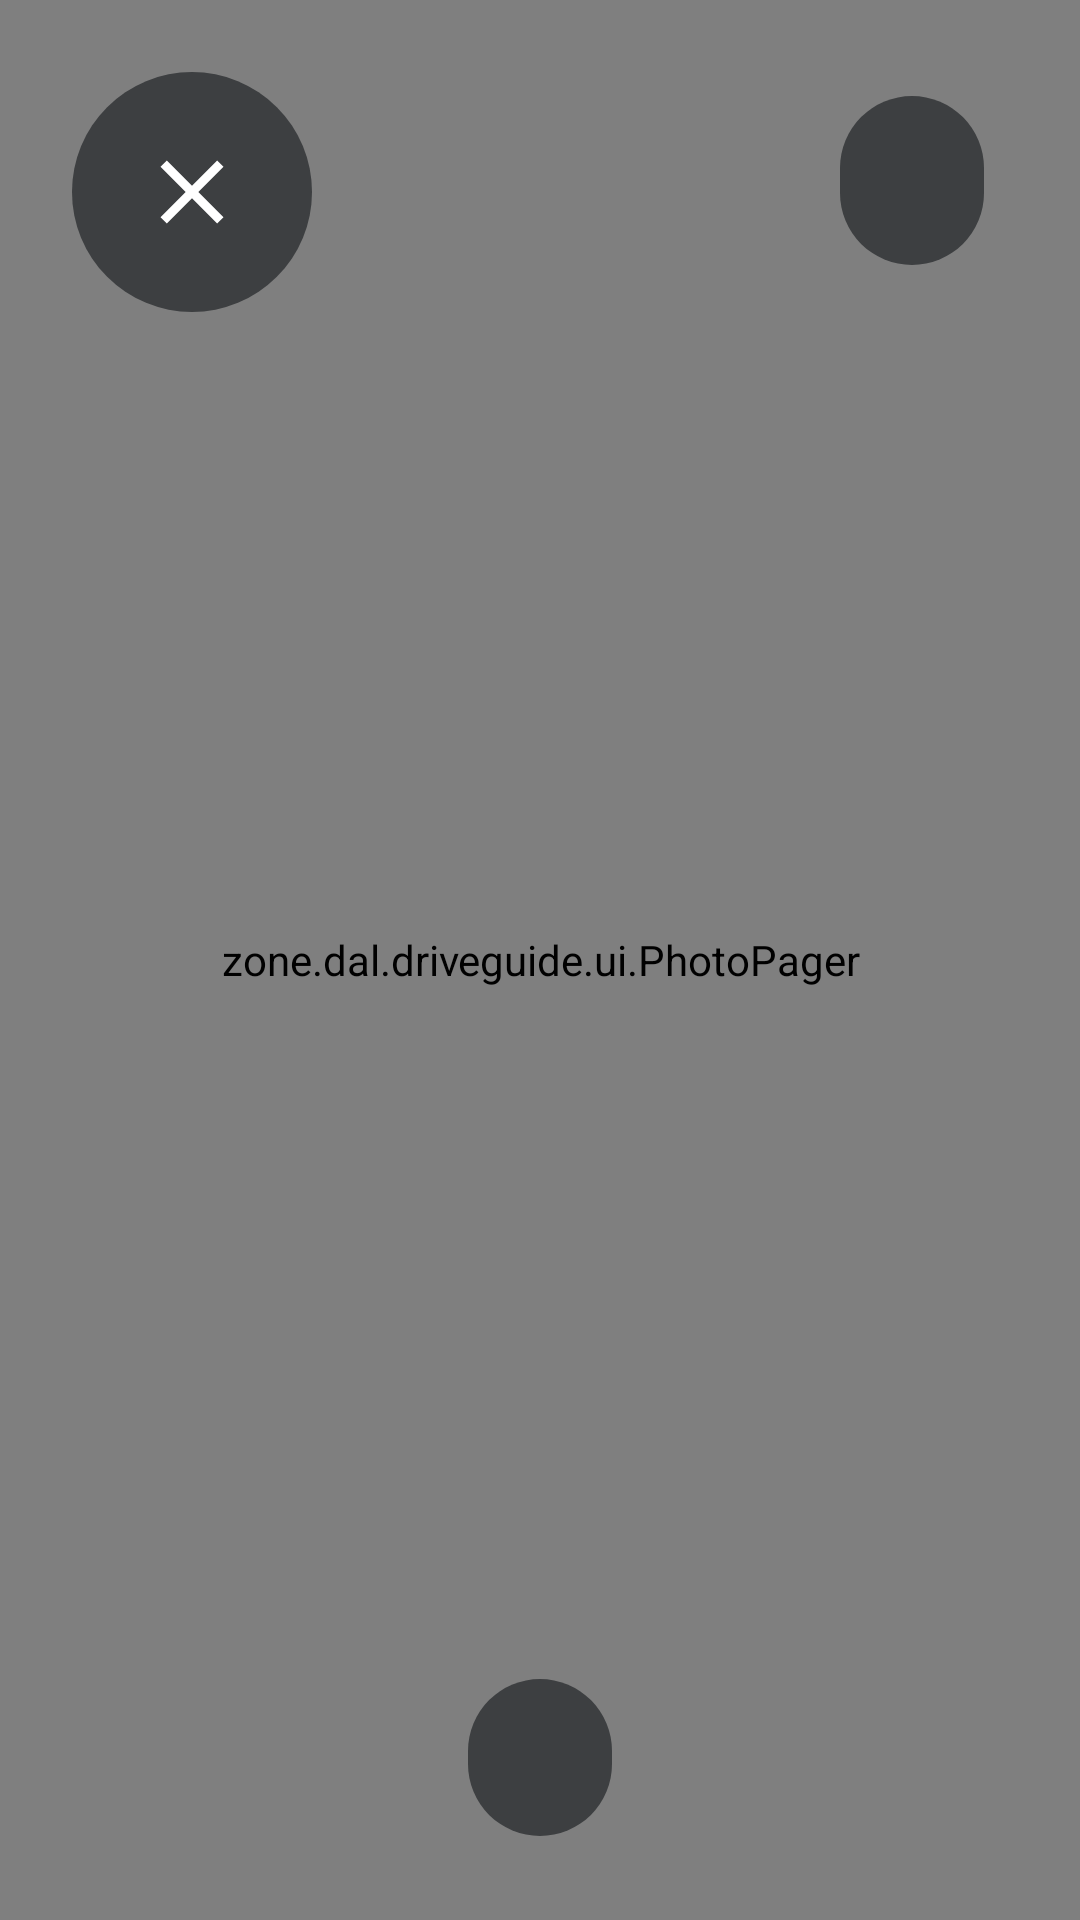

Icon click points for this 1080×1920 phone screenshot, format (x=x, y=y):
닫기: (x=192, y=192)
